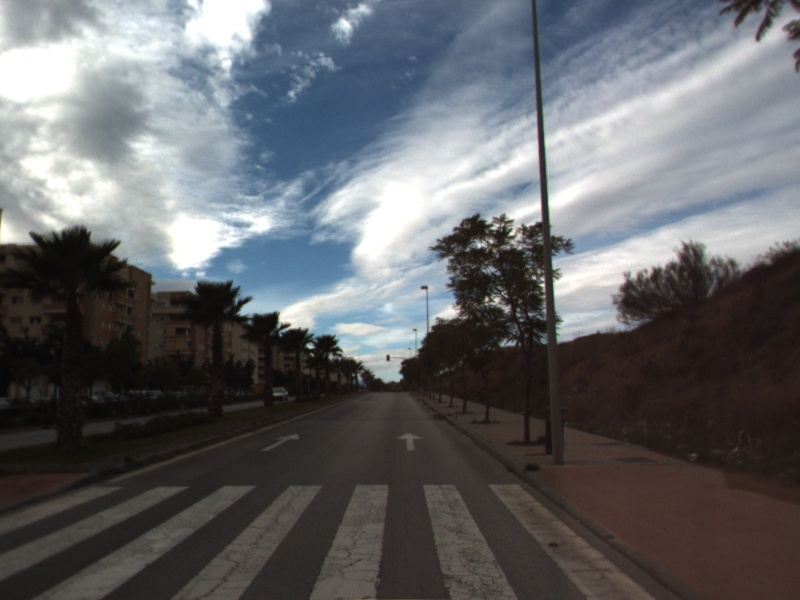STRAIGHT: (259, 431, 301, 453), (395, 430, 425, 452)
